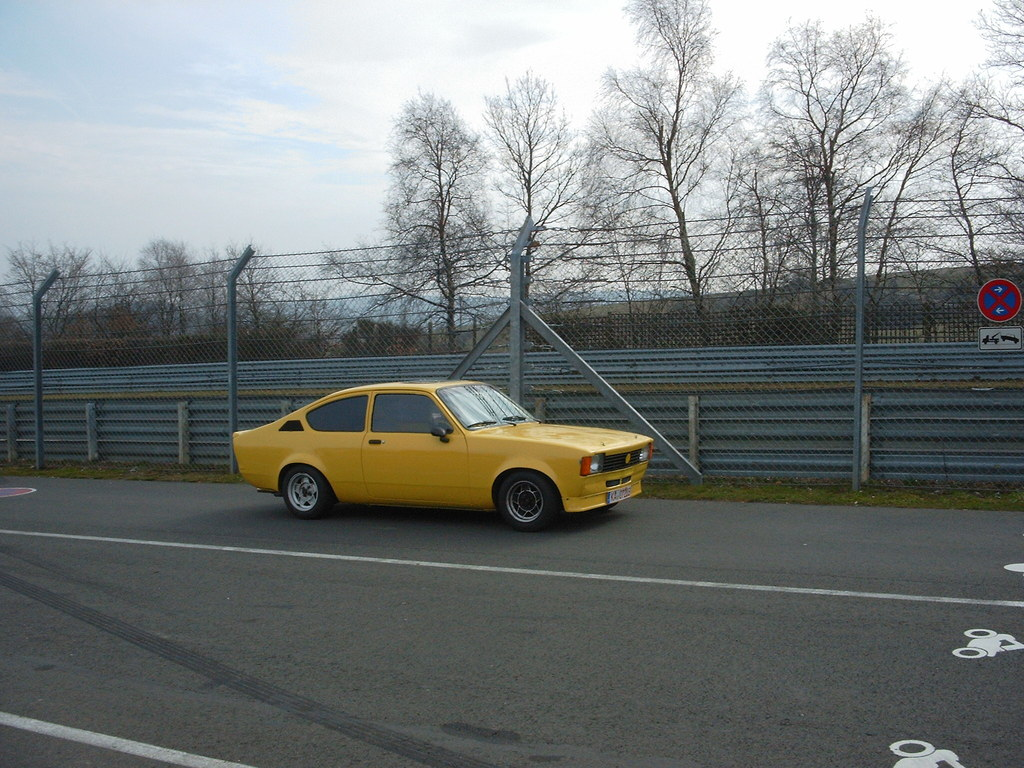mobil: (224, 346, 667, 539)
